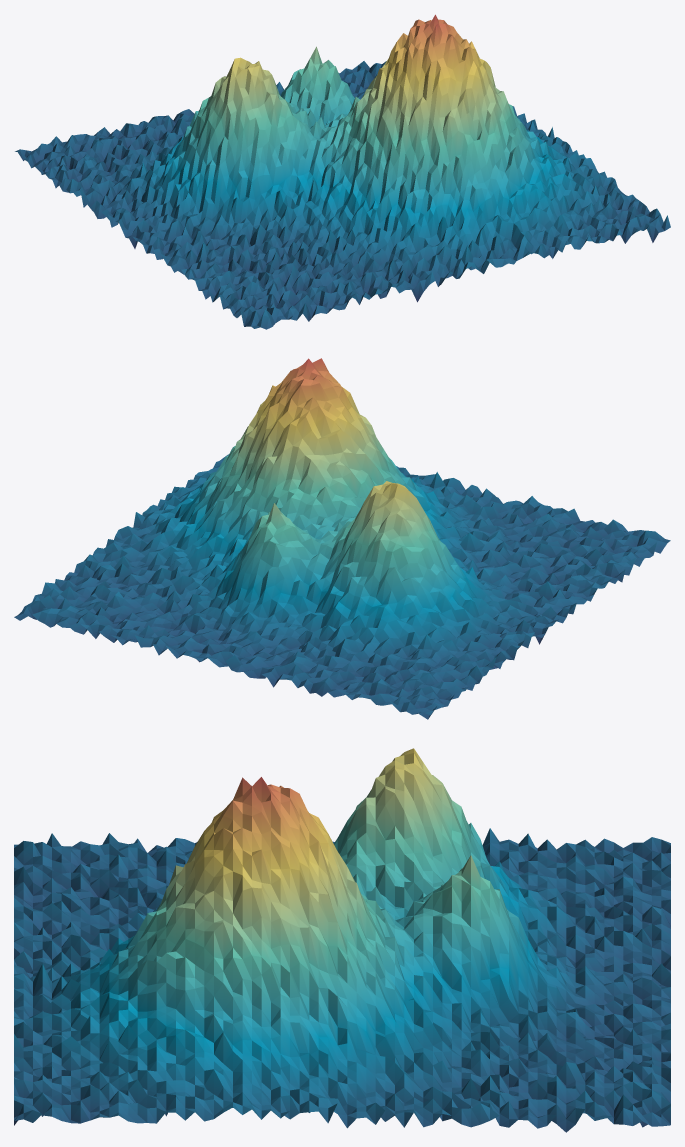
3 views of the same model, one above another, from view 1: azimuth 30°, elevation 25°; view 2: azimuth 150°, elevation 25°; view 3: azimuth 270°, elevation 25° (orthographic). The views are drawn at different scales.
Visible parts, largest first — view 1: geometry_0; view 2: geometry_0; view 3: geometry_0.
Boxes of the visible parts, box(x1,y1,x2,y2) form: geometry_0: box(15, 14, 670, 329); geometry_0: box(14, 358, 670, 719); geometry_0: box(14, 748, 670, 1132).
Bounding box in the file's own units: 1 × 0.45 × 1.
